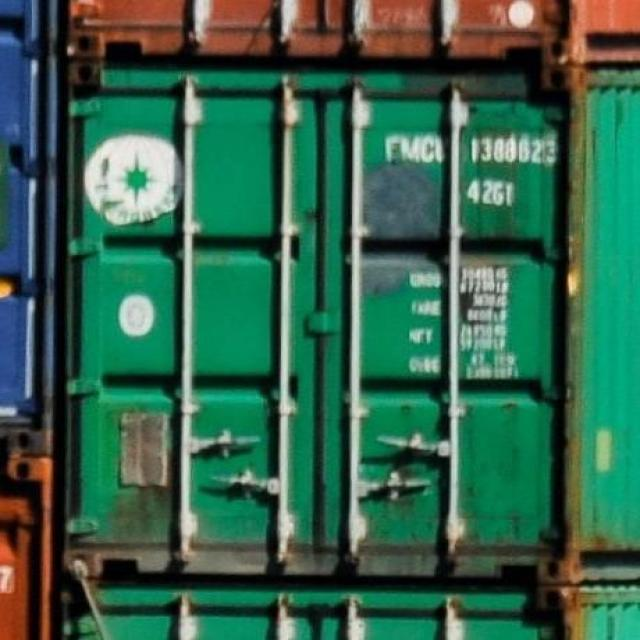ISO: (467, 175, 515, 208)
container_number: (386, 135, 552, 166)
